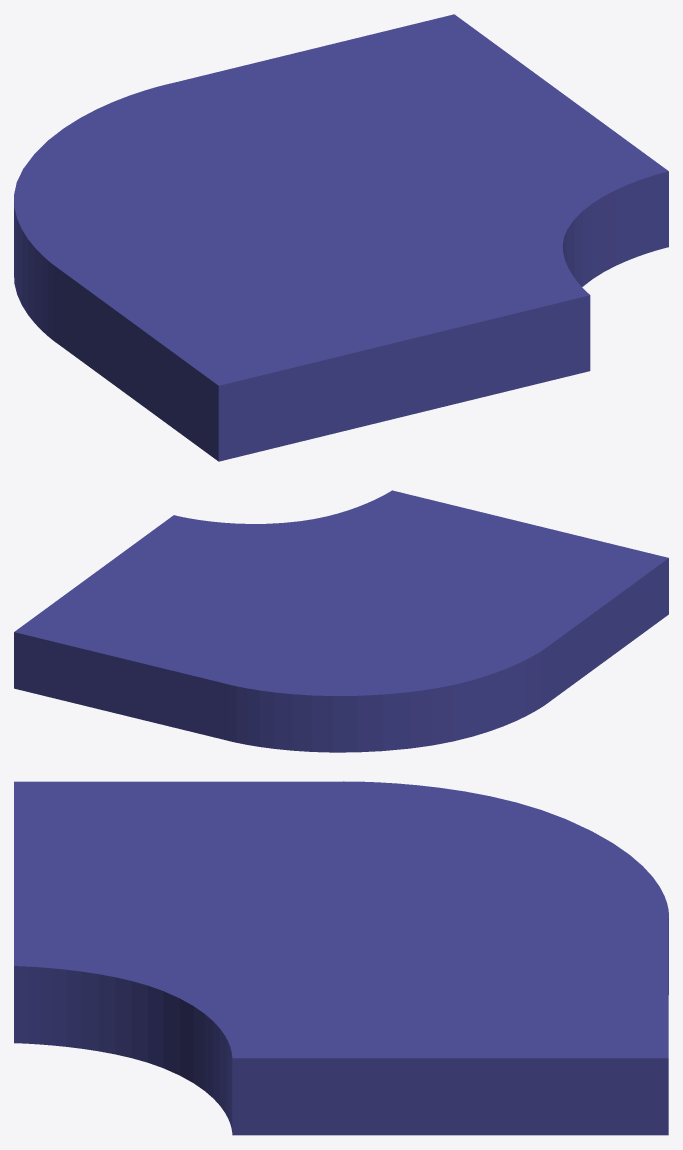
Rendered from piece_turn.fbx.
The picture shows the model from 3 angles, top to bottom: view 1: azimuth 30°, elevation 25°; view 2: azimuth 150°, elevation 25°; view 3: azimuth 270°, elevation 25°; orthographic projection. The views are drawn at different scales.
Visible parts, largest first — view 1: Curve.001; view 2: Curve.001; view 3: Curve.001.
Part boxes in pixels (x1=…): Curve.001: x1=14, y1=14, x2=668, y2=461; Curve.001: x1=14, y1=490, x2=668, y2=752; Curve.001: x1=14, y1=781, x2=668, y2=1135.
Bounding box in the file's own units: 769 × 100 × 769.
